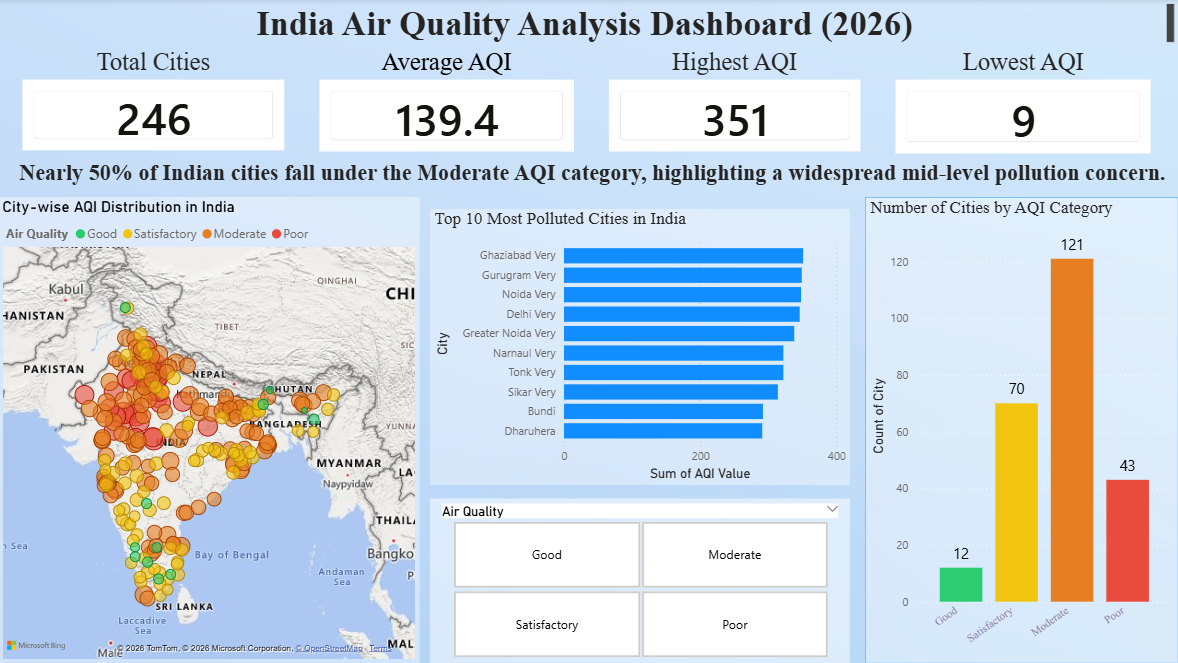

Layout of this report page (visuals, bound fields, positions):
{"tool":"powerbi","page":{"name":"Page 1","canvas":[1280,720],"ordinal":0},"visuals":[{"type":"cardVisual","title":"Total Cities ","fields":{"Data":["Sheet1.Total Cities"]},"box":[21.1,52,294.4,117.1],"z":0},{"type":"cardVisual","title":"Average AQI","fields":{"Data":["Sheet1.Average AQI"]},"box":[343.2,52,286.3,118.7],"z":1000},{"type":"cardVisual","title":"Highest AQI ","fields":{"Data":["Sheet1.Max AQI"]},"box":[657.1,52,283,118.7],"z":2000},{"type":"cardVisual","title":"Lowest AQI ","fields":{"Data":["Sheet1.Min AQI"]},"box":[967.8,52,287.9,120.4],"z":3000},{"type":"map","title":"City-wise AQI Distribution in India","fields":{"Category":["Sheet1.City"],"Size":["Sum(Sheet1.AQI Value)"],"Series":["Table. Air Quality"]},"box":[0,214.7,457.1,505.9],"z":4000},{"type":"clusteredBarChart","title":"Top 10 Most Polluted Cities in India","fields":{"Category":["Sheet1.City"],"Y":["Sum(Sheet1.AQI Value)"]},"box":[468.4,227.7,455.4,299.3],"z":5000},{"type":"clusteredColumnChart","title":"Number of Cities by AQI Category ","fields":{"Y":["CountNonNull(Sheet1.City)"],"Category":["Table. Air Quality"]},"box":[940.1,214.7,339.9,505.9],"z":6000},{"type":"slicer","fields":{"Values":["Table. Air Quality"]},"box":[468.4,541.6,455.4,178.9],"z":7000},{"type":"textbox","box":[0,0,1280.1,52],"z":8000},{"type":"textbox","box":[0,169.2,1280.1,45.5],"z":9000}]}

Visuals, with their boxes in screenshot pixels (x1, y1, x2, y2), scaled from the page's 1280x720 canvas onto the 1178x663 screenshot:
"Total Cities " cardVisual: 19 48 290 156
"Average AQI" cardVisual: 316 48 579 157
"Highest AQI " cardVisual: 605 48 865 157
"Lowest AQI " cardVisual: 891 48 1156 159
"City-wise AQI Distribution in India" map: 0 198 421 662
"Top 10 Most Polluted Cities in India" clusteredBarChart: 431 210 850 485
"Number of Cities by AQI Category " clusteredColumnChart: 865 198 1177 662
slicer - Table. Air Quality: 431 499 850 662
textbox: 0 0 1177 48
textbox: 0 156 1177 198
